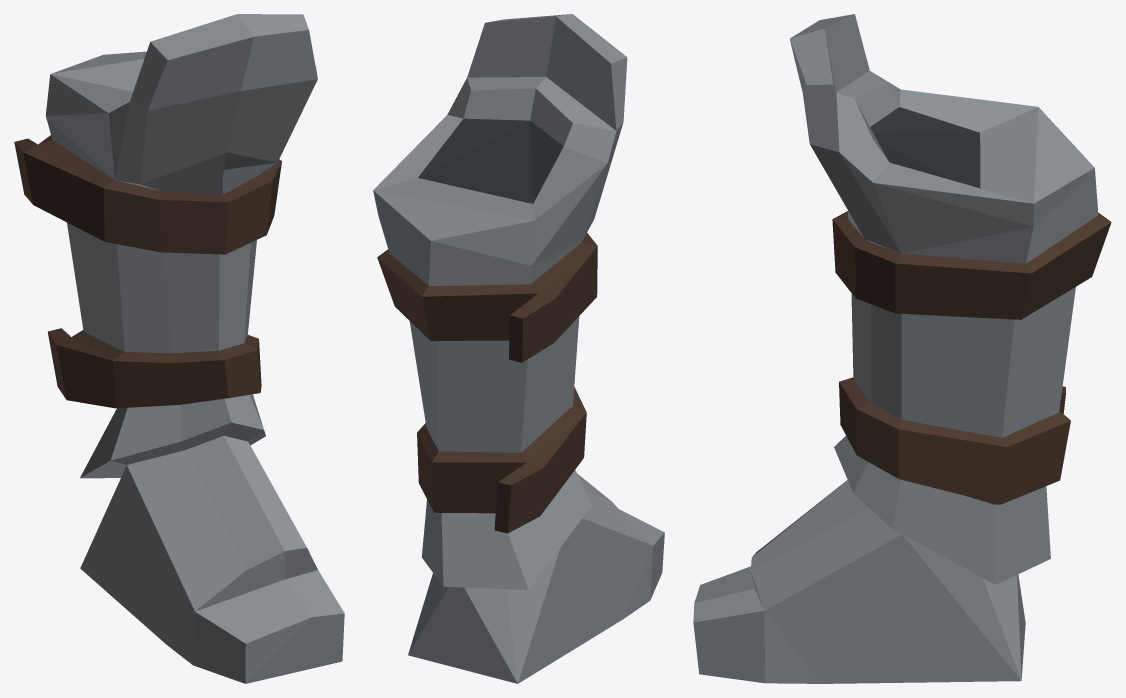
The model's file is Chr_LegRight_Female_13_Static.fbx.
3 renders of one model, left to right at view 1: azimuth 30°, elevation 25°; view 2: azimuth 150°, elevation 25°; view 3: azimuth 270°, elevation 25°, orthographic. The views are drawn at different scales.
Visible parts, largest first — view 1: Chr_LegRight_Female_13_Static; view 2: Chr_LegRight_Female_13_Static; view 3: Chr_LegRight_Female_13_Static.
Boxes of the visible parts, left/top/right/bottom form: Chr_LegRight_Female_13_Static: left=14, top=14, right=344, bottom=683; Chr_LegRight_Female_13_Static: left=373, top=14, right=664, bottom=683; Chr_LegRight_Female_13_Static: left=693, top=14, right=1111, bottom=683.
Bounding box in the file's own units: 0.1624 × 0.4845 × 0.2937.
